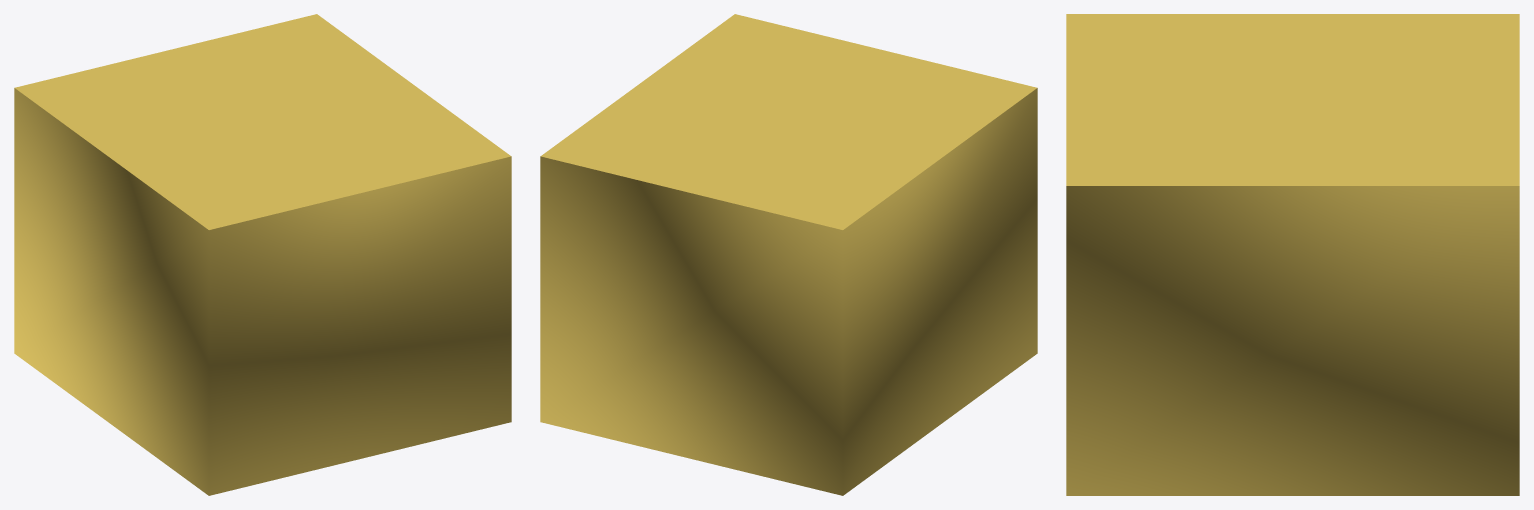
Rendered from Building_C_12.fbx.
3 renders of one model, left to right at view 1: azimuth 30°, elevation 25°; view 2: azimuth 150°, elevation 25°; view 3: azimuth 270°, elevation 25°, orthographic. The views are drawn at different scales.
Visible parts, largest first — view 1: Building_C_12; view 2: Building_C_12; view 3: Building_C_12.
Part boxes in pixels (x1,y1,x2,y2): Building_C_12: [14, 14, 511, 495]; Building_C_12: [540, 14, 1037, 495]; Building_C_12: [1066, 14, 1519, 495].
Size of the model in its own units: 418 by 351 by 466.
